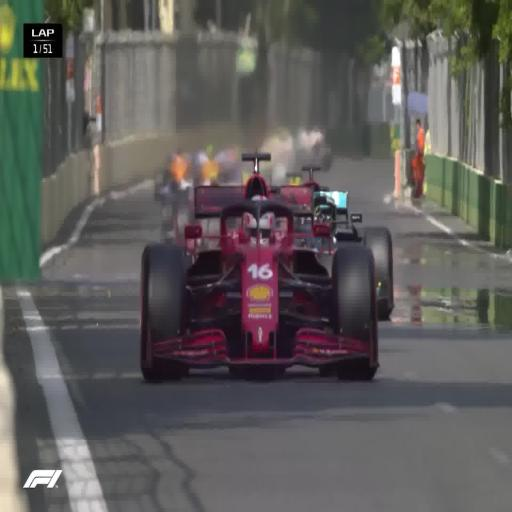f1_car: (141, 186, 378, 380), (312, 190, 394, 319), (311, 223, 331, 239), (290, 185, 298, 189), (300, 233, 303, 237), (256, 155, 257, 158), (310, 206, 310, 208), (310, 203, 310, 204)
